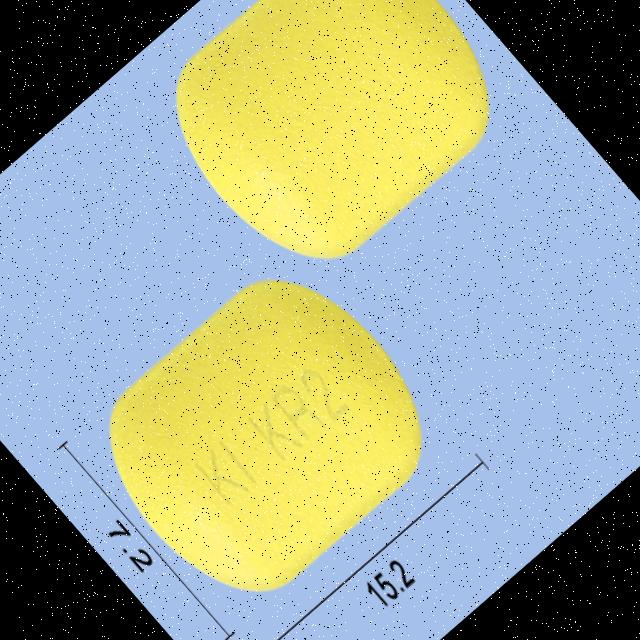Clarithromycin Tab- LGCI: (70, 240, 462, 628)
